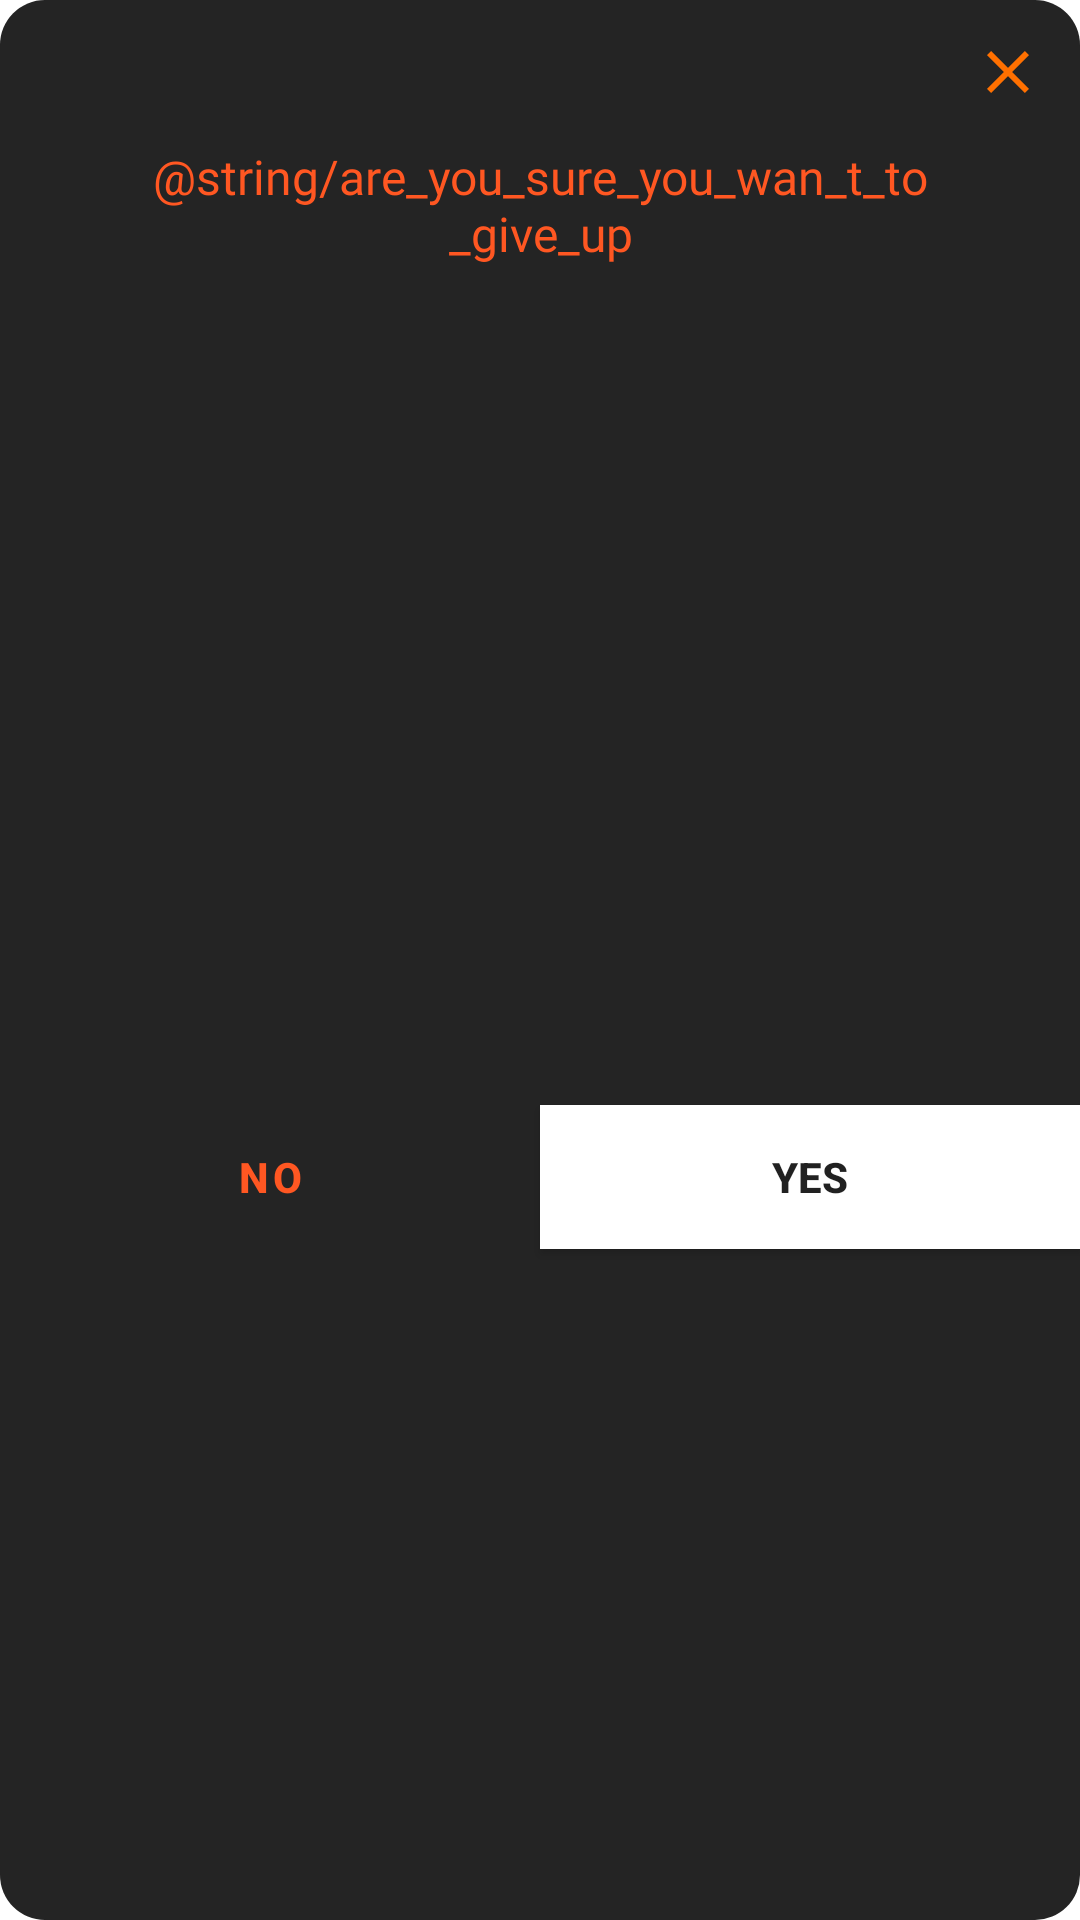

Icon bounding boxes for this 1080px×1920px phone screenshot, format (x1, y1, x2, y2):
close: (987, 51, 1029, 93)
